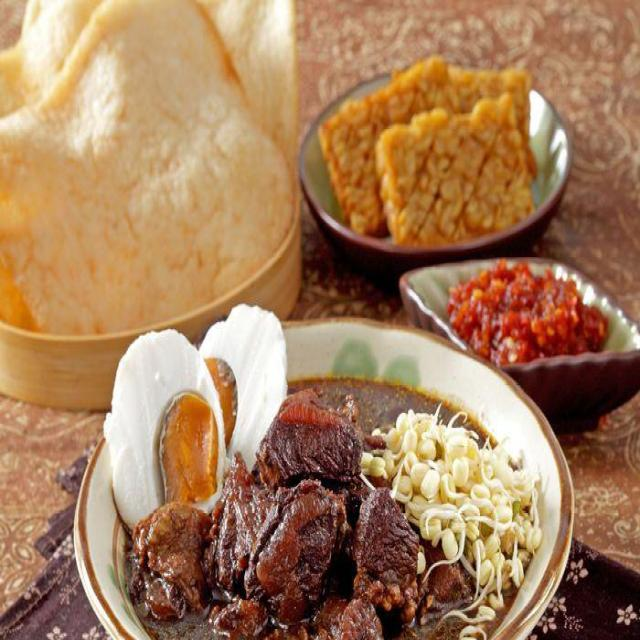Rawon: (138, 381, 534, 625)
